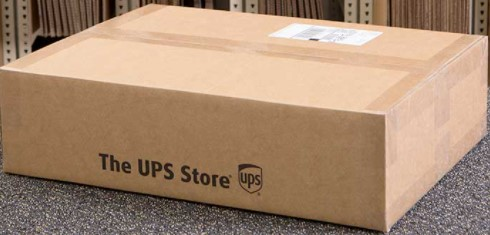stock: (1, 4, 490, 230)
